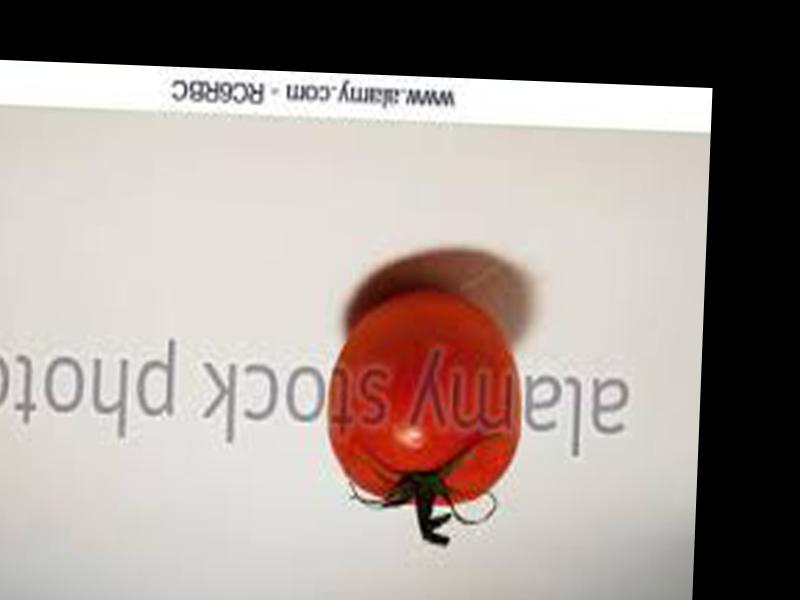Tomato: (323, 288, 525, 512)
